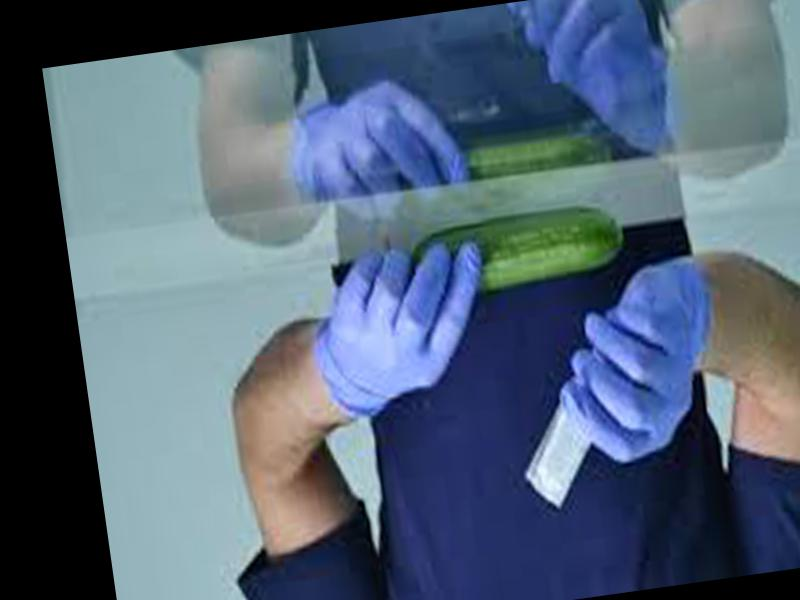Cucumber: (409, 199, 628, 299)
